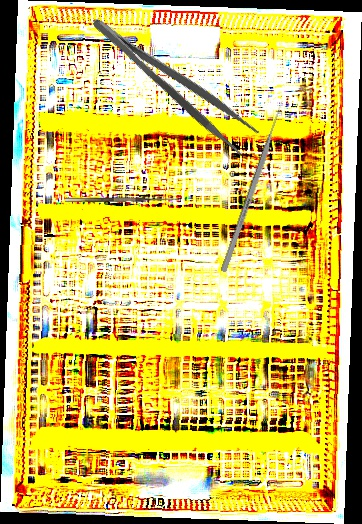Dressing Forceps: (86, 0, 264, 160)
Hook Surgical: (65, 192, 180, 202)
Pusher: (220, 100, 286, 273)
